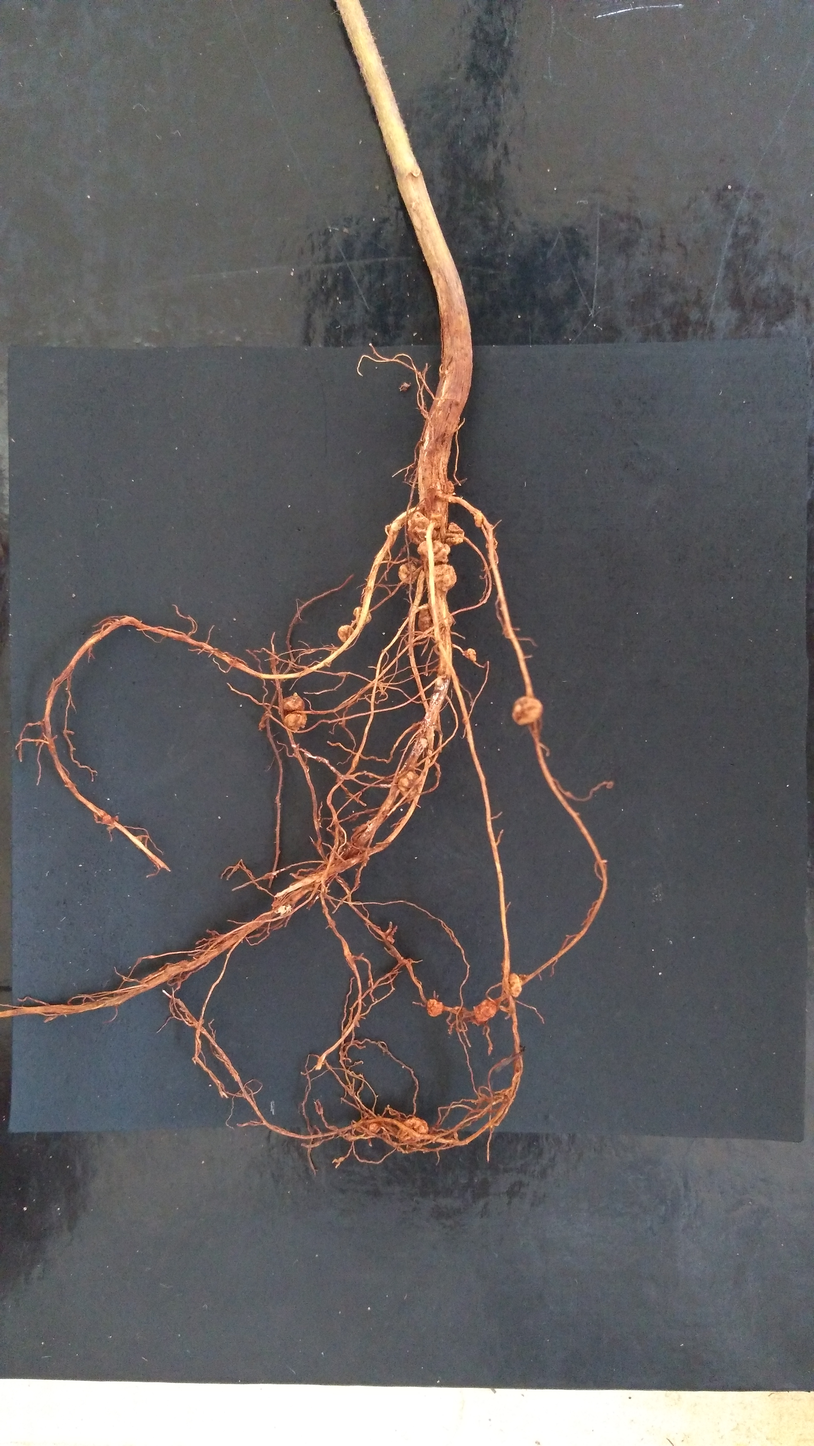nodule: (418, 605, 455, 632), (408, 511, 437, 544), (511, 696, 544, 725), (280, 694, 306, 730), (427, 565, 457, 592), (417, 541, 450, 563), (398, 771, 422, 800), (398, 1117, 428, 1140), (502, 972, 522, 997), (355, 1114, 381, 1133), (474, 999, 496, 1021), (444, 522, 465, 545), (398, 561, 418, 584), (353, 606, 372, 625), (338, 624, 355, 642), (427, 999, 444, 1017), (463, 648, 476, 662), (430, 513, 442, 528), (444, 480, 454, 494), (474, 512, 482, 526), (102, 815, 111, 822), (463, 717, 468, 725)
